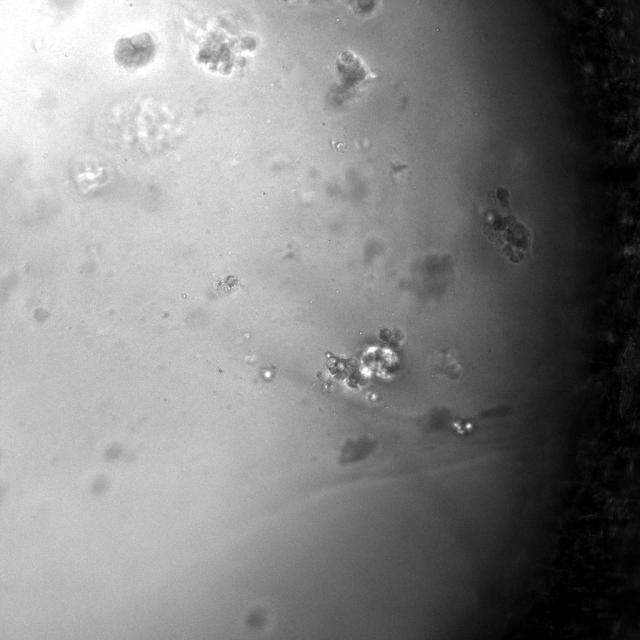organoid: (324, 326, 407, 392), (183, 11, 258, 75), (479, 187, 534, 264), (327, 49, 377, 107), (114, 32, 156, 69)
